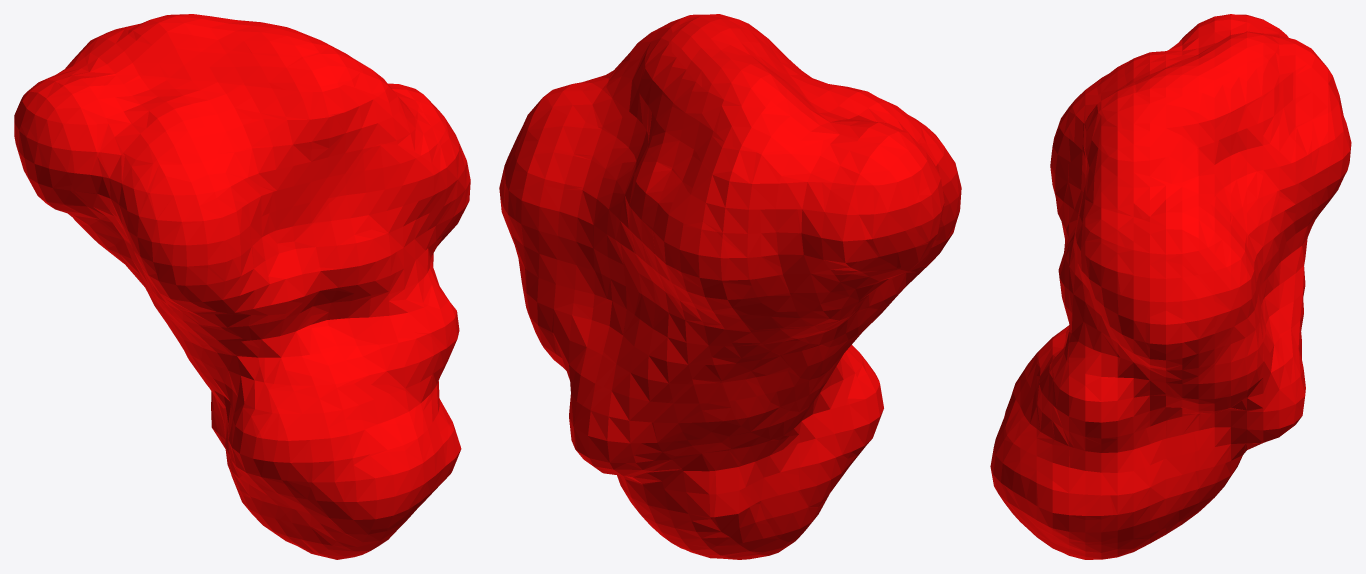
The model's file is slmA_coarse.dae.
The picture shows the model from 3 angles, left to right: view 1: azimuth 30°, elevation 25°; view 2: azimuth 150°, elevation 25°; view 3: azimuth 270°, elevation 25°; orthographic projection. The views are drawn at different scales.
Parts seen in each view (by area): view 1: slmA; view 2: slmA; view 3: slmA.
Part boxes in pixels (<box>): slmA: <box>14,14,470,559</box>; slmA: <box>499,14,961,559</box>; slmA: <box>990,14,1351,559</box>.
Size of the model in its own units: 49.58 by 58.16 by 39.77.
